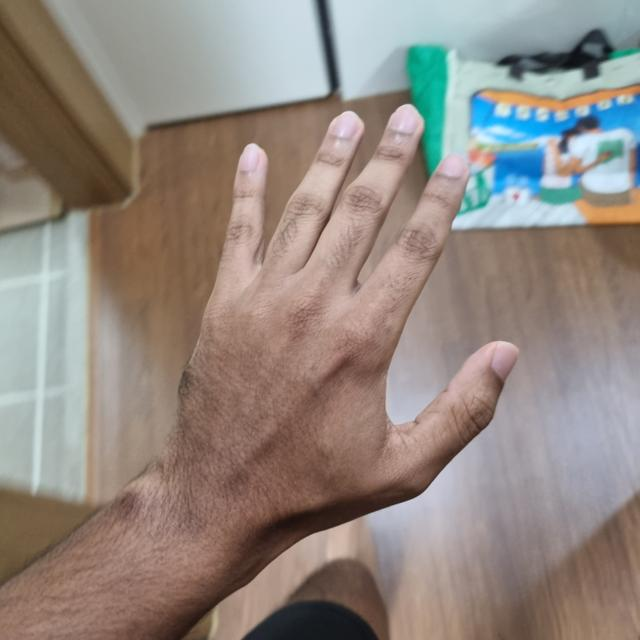Paper: (175, 102, 513, 529)
